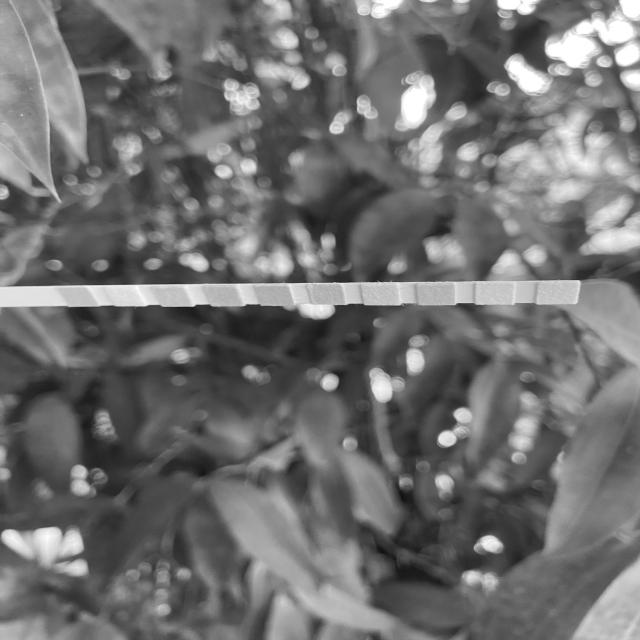Bilirubin: (116, 287, 134, 306)
Blood: (262, 286, 288, 306)
Glucose: (68, 288, 86, 306)
Ketone: (163, 287, 183, 307)
Leukocytes: (539, 283, 577, 304)
Nitrite: (477, 284, 513, 304)
Protein: (365, 284, 397, 304)
SpGravity: (212, 286, 236, 306)
Urobilinogen: (420, 284, 453, 305)
background: (0, 0, 640, 640)
pH: (312, 284, 340, 304)
strip: (0, 280, 581, 307)
